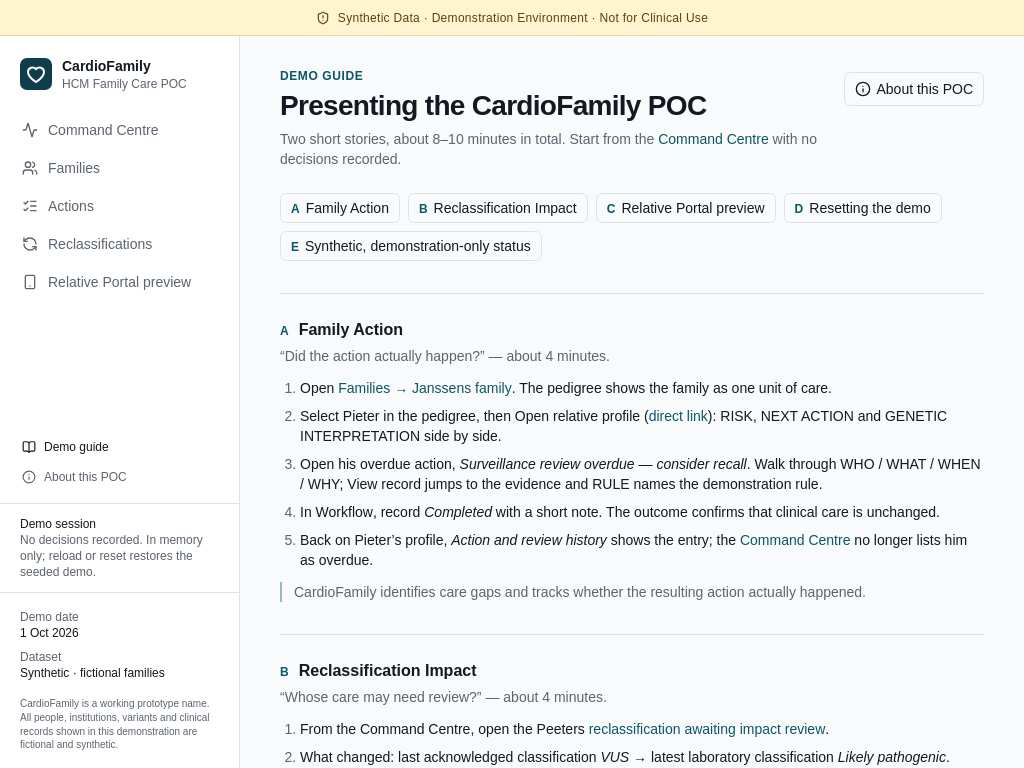
Test: Demo guide › step link “Families → Janssens family” opens a working page
The image size is (1024, 768).
Click the link "Families → Janssens family": (425,388) [338, 380, 512, 396]
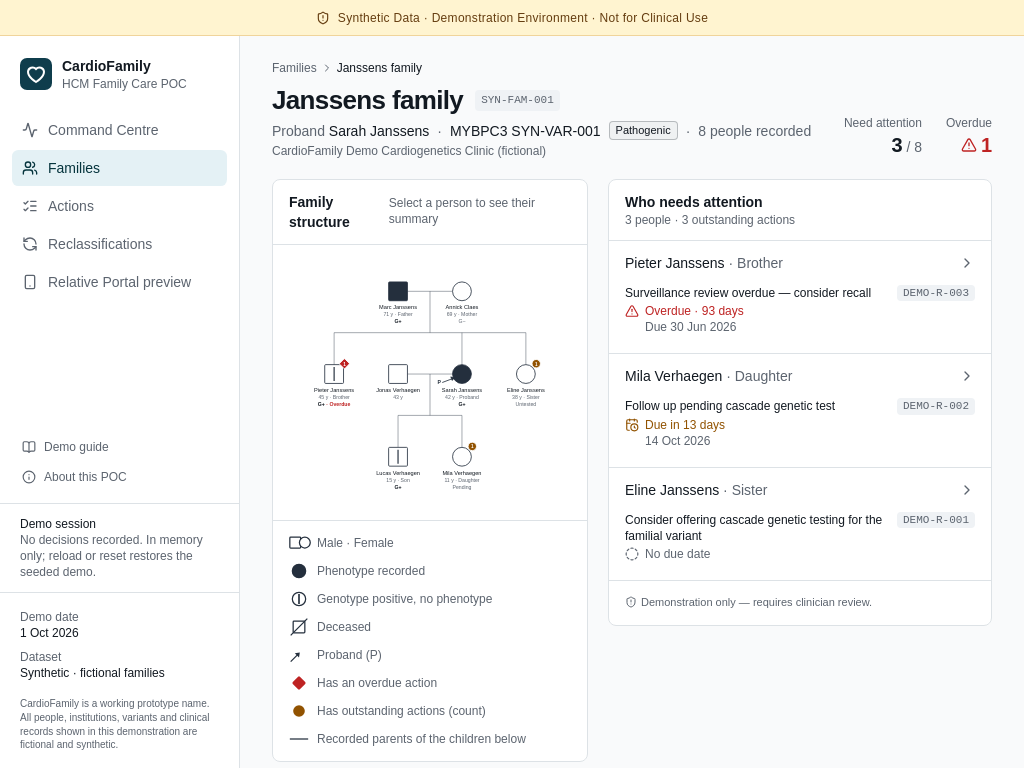
Result: the heading "Janssens family" is shown at [272, 84, 463, 116]
